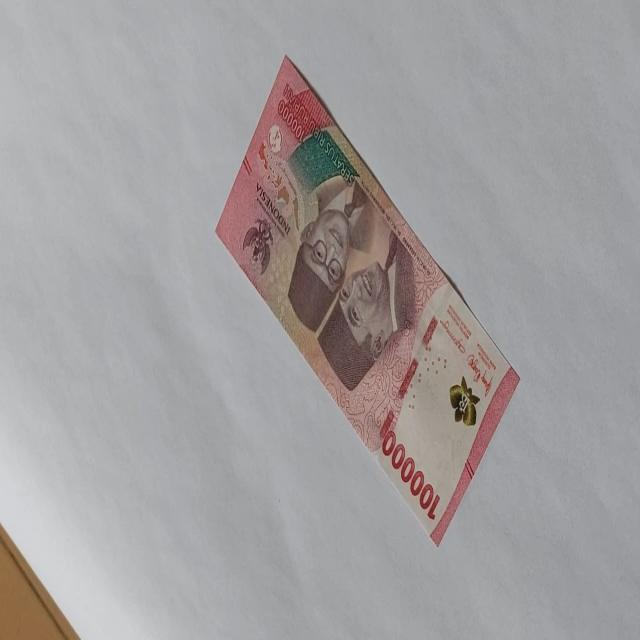seratus ribu rupiah: (214, 53, 520, 547)
